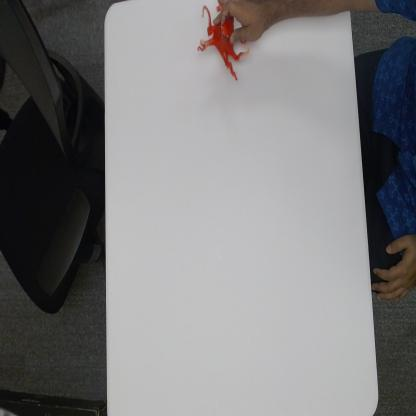Hand: (212, 0, 280, 44)
Octopus: (196, 0, 251, 83)
